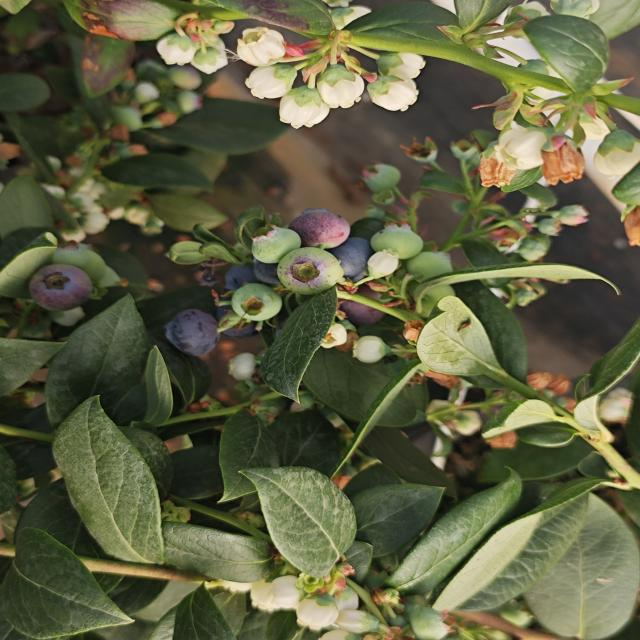ripe: (28, 257, 100, 303), (162, 302, 218, 354), (216, 297, 266, 342), (221, 259, 293, 290), (332, 234, 374, 271)
